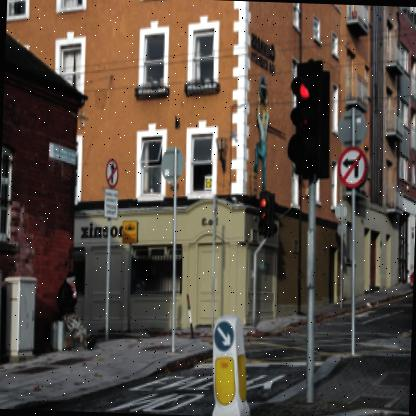trafficlight: (290, 52, 338, 181), (258, 185, 278, 237)
